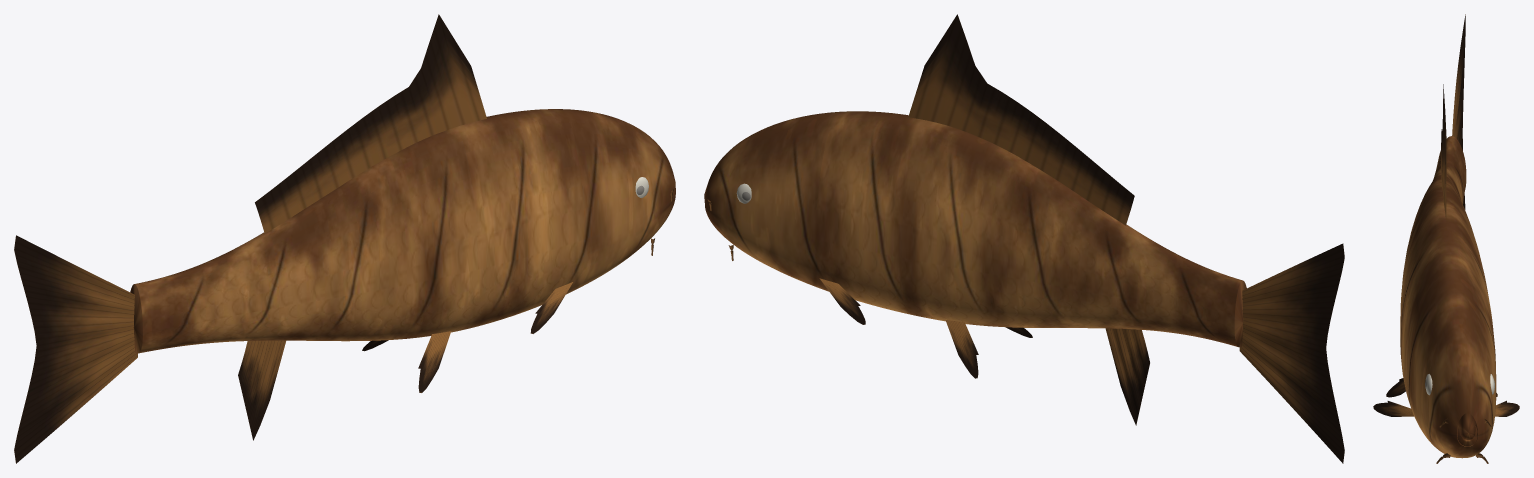
File: fish_carp_cooked.gltf
3 renders of one model, left to right at view 1: azimuth 30°, elevation 25°; view 2: azimuth 150°, elevation 25°; view 3: azimuth 270°, elevation 25°, orthographic. The views are drawn at different scales.
Visible parts, largest first — view 1: fish_carp_cooked; view 2: fish_carp_cooked; view 3: fish_carp_cooked.
Part boxes in pixels (bbox=[...]): fish_carp_cooked: bbox=[14, 14, 675, 463]; fish_carp_cooked: bbox=[704, 14, 1344, 463]; fish_carp_cooked: bbox=[1373, 14, 1519, 463].
Bounding box in the file's own units: 0.5109 × 0.2813 × 0.101.
7 materials, 4 textured.
